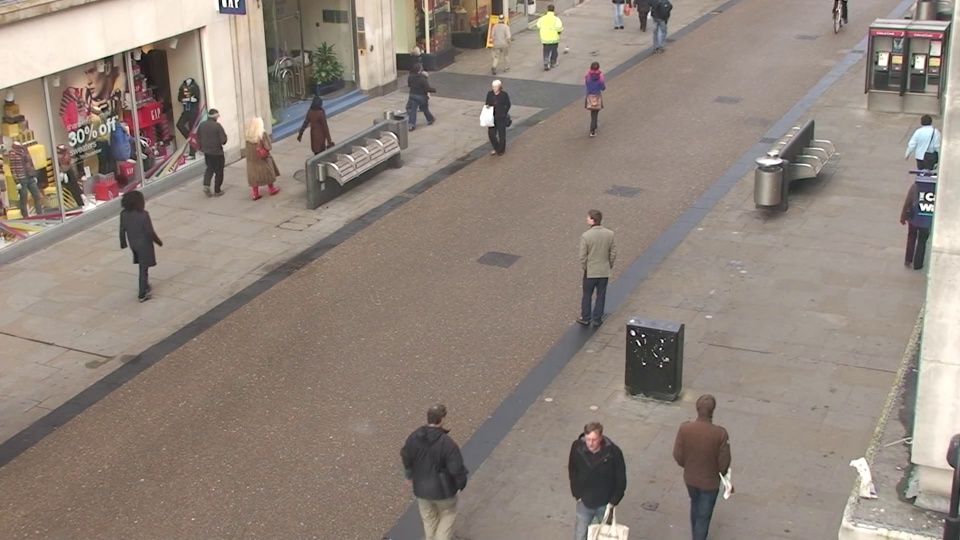pedestrian: (675, 385, 732, 540), (411, 393, 468, 540), (563, 415, 619, 540), (113, 186, 161, 298), (899, 110, 945, 209), (576, 203, 613, 323), (242, 111, 278, 203), (198, 103, 234, 193), (302, 93, 334, 181), (483, 76, 513, 161), (403, 60, 432, 140), (582, 58, 608, 137), (403, 43, 430, 118), (490, 11, 514, 77), (541, 2, 563, 66)
